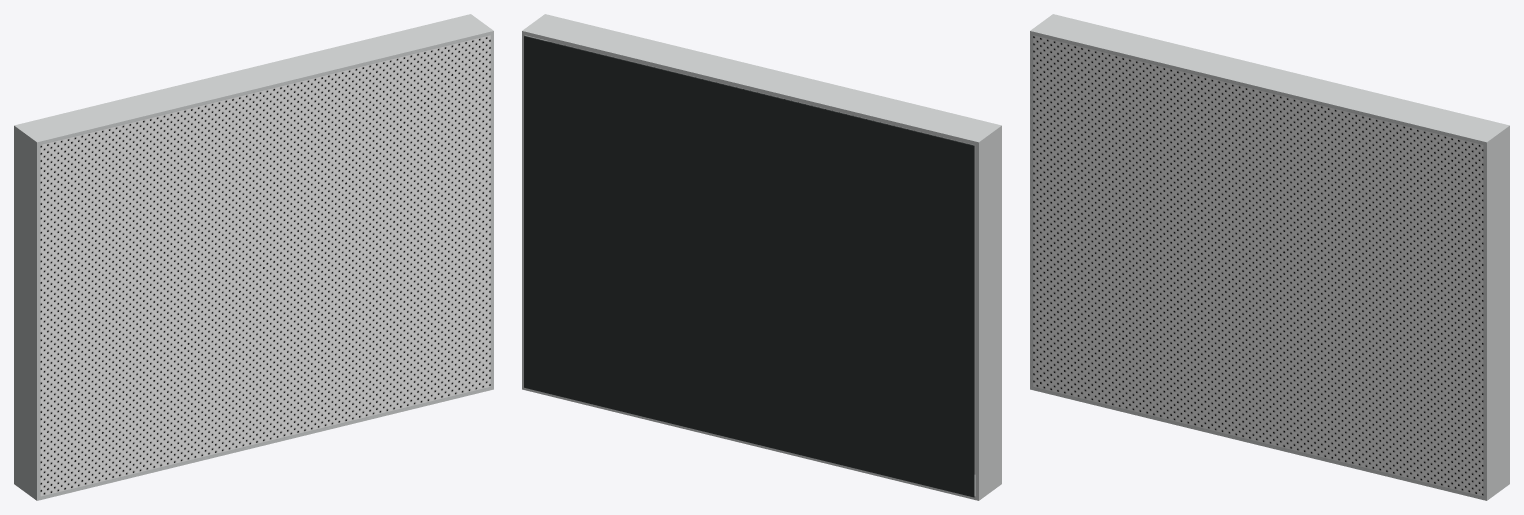
The model's file is ecoclima-egff-400x300.glb.
3 renders of one model, left to right at view 1: azimuth 30°, elevation 25°; view 2: azimuth 150°, elevation 25°; view 3: azimuth 330°, elevation 25°, orthographic.
Parts seen in each view (by area): view 1: Profile_lamiera_forata.002, Profile_ritorno.124, Profile_ritorno.126, Profile_ritorno.125, Profile_ritorno.127; view 2: Interno.033, Profile_ritorno.124, Profile_ritorno.126, Profile_ritorno.125, Profile_lamiera_forata.002, Profile_ritorno.127; view 3: Profile_lamiera_forata.002, Profile_ritorno.124, Profile_ritorno.127, Profile_ritorno.125, Profile_ritorno.126.
Boxes of the visible parts, x1,y1,x2,y2 form: Profile_lamiera_forata.002: (40, 35, 490, 496); Profile_ritorno.124: (14, 14, 493, 145); Profile_ritorno.126: (14, 129, 40, 497); Profile_ritorno.125: (14, 386, 493, 500); Profile_ritorno.127: (490, 34, 493, 386); Interno.033: (524, 36, 974, 497); Profile_ritorno.124: (522, 14, 1001, 145); Profile_ritorno.126: (975, 129, 1001, 497); Profile_ritorno.125: (522, 386, 1001, 500); Profile_lamiera_forata.002: (548, 41, 975, 474); Profile_ritorno.127: (522, 34, 547, 386); Profile_lamiera_forata.002: (1033, 35, 1483, 496); Profile_ritorno.124: (1030, 14, 1509, 145); Profile_ritorno.127: (1483, 129, 1509, 497); Profile_ritorno.125: (1030, 386, 1509, 500); Profile_ritorno.126: (1030, 34, 1033, 386).
Bounding box in the file's own units: 0.4 × 0.3 × 0.037.
Materials: 3 (1 with a texture image).
